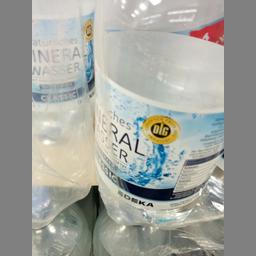water: (92, 2, 222, 224)
